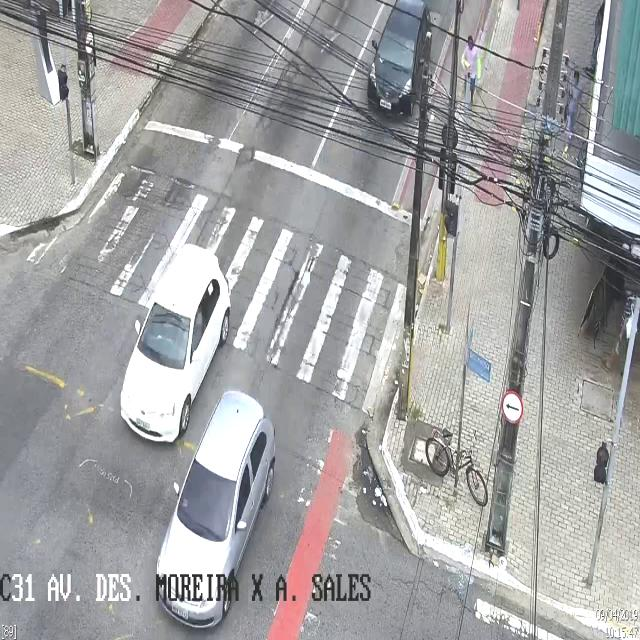Car: (155, 387, 277, 630), (120, 241, 232, 447), (369, 1, 431, 119)
